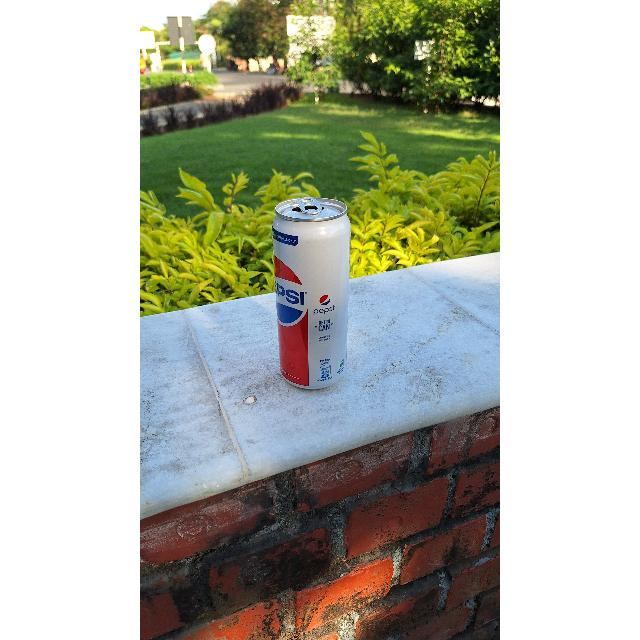Pepsi Retro: (267, 198, 353, 388)
